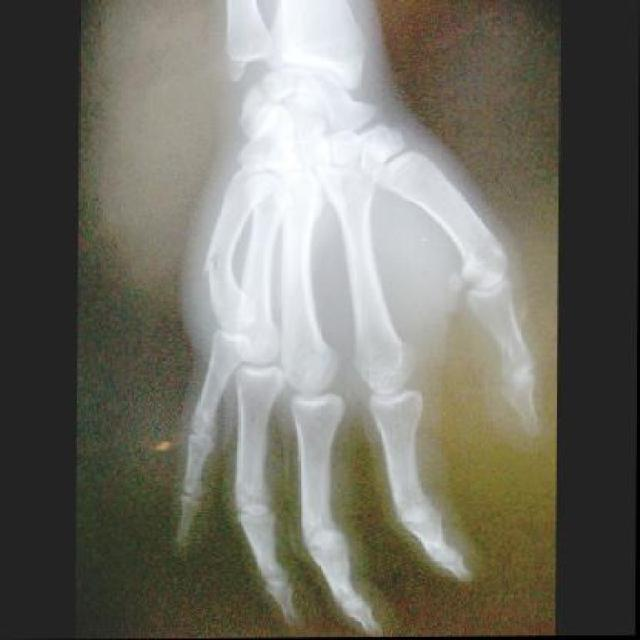Fracture: (200, 248, 236, 295)
